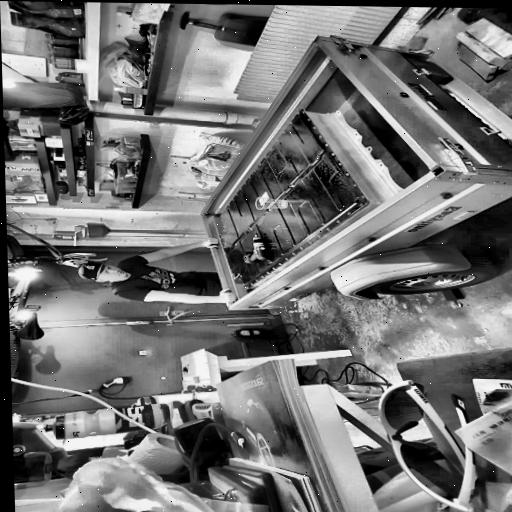b_casing: (217, 109, 368, 289)
